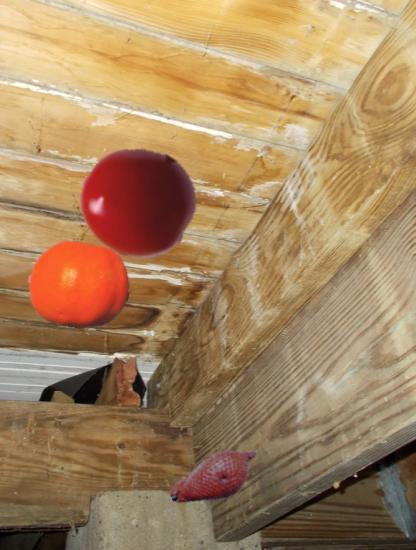Clementine: (28, 234, 131, 337)
Salak: (167, 429, 266, 528)
Tomato: (81, 144, 196, 259)
